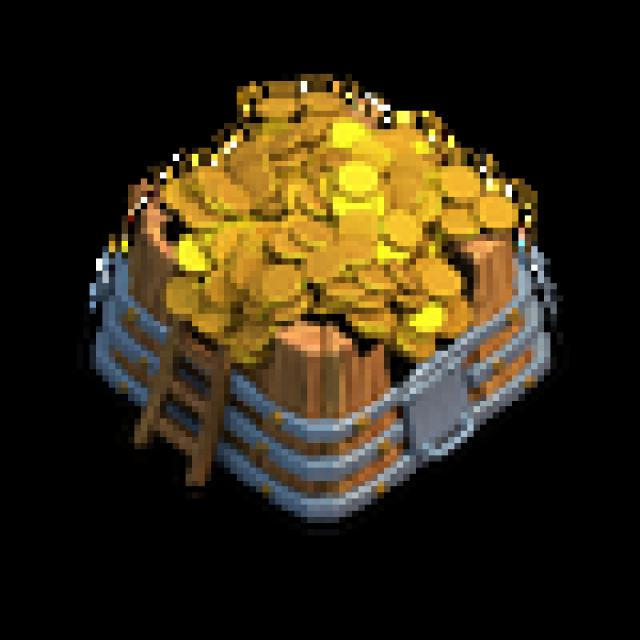gold_storage: (67, 58, 581, 550)
